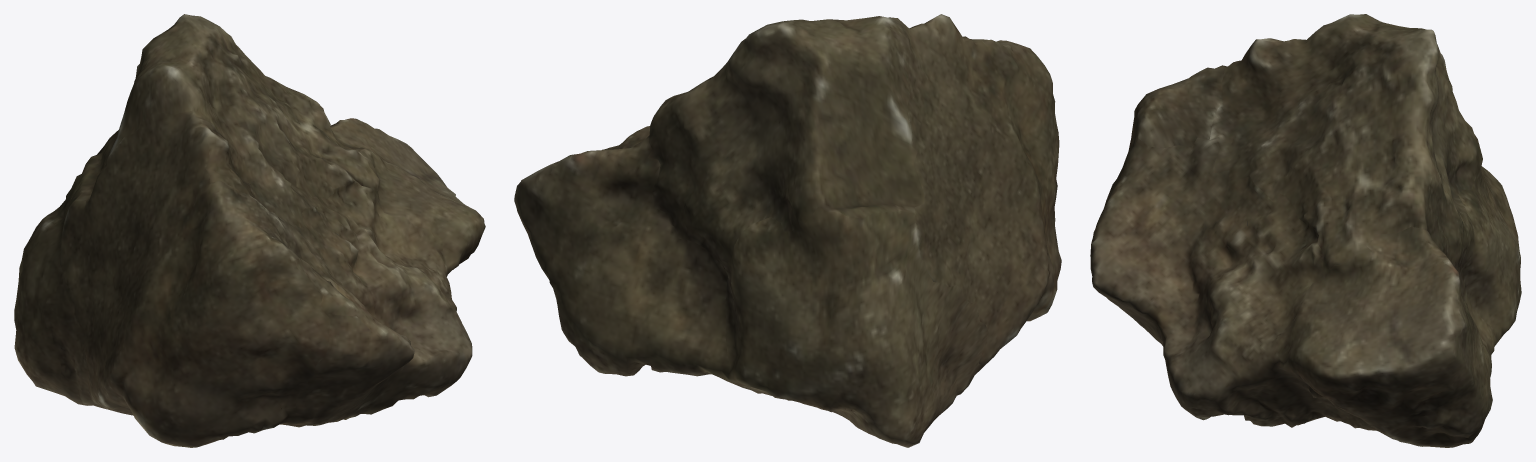
Rendered from B_Rock_04.fbx.
The picture shows the model from 3 angles, left to right: view 1: azimuth 30°, elevation 25°; view 2: azimuth 150°, elevation 25°; view 3: azimuth 270°, elevation 25°; orthographic projection. The views are drawn at different scales.
Parts seen in each view (by area): view 1: B_Rock_04_LOD0; view 2: B_Rock_04_LOD0; view 3: B_Rock_04_LOD0.
Part boxes in pixels (box(x1,y1,x2,y2)): B_Rock_04_LOD0: box(14, 14, 485, 447); B_Rock_04_LOD0: box(514, 14, 1061, 447); B_Rock_04_LOD0: box(1090, 14, 1521, 447).
Size of what is drawn, in the model's own units: 2.5 by 2.08 by 2.31.
